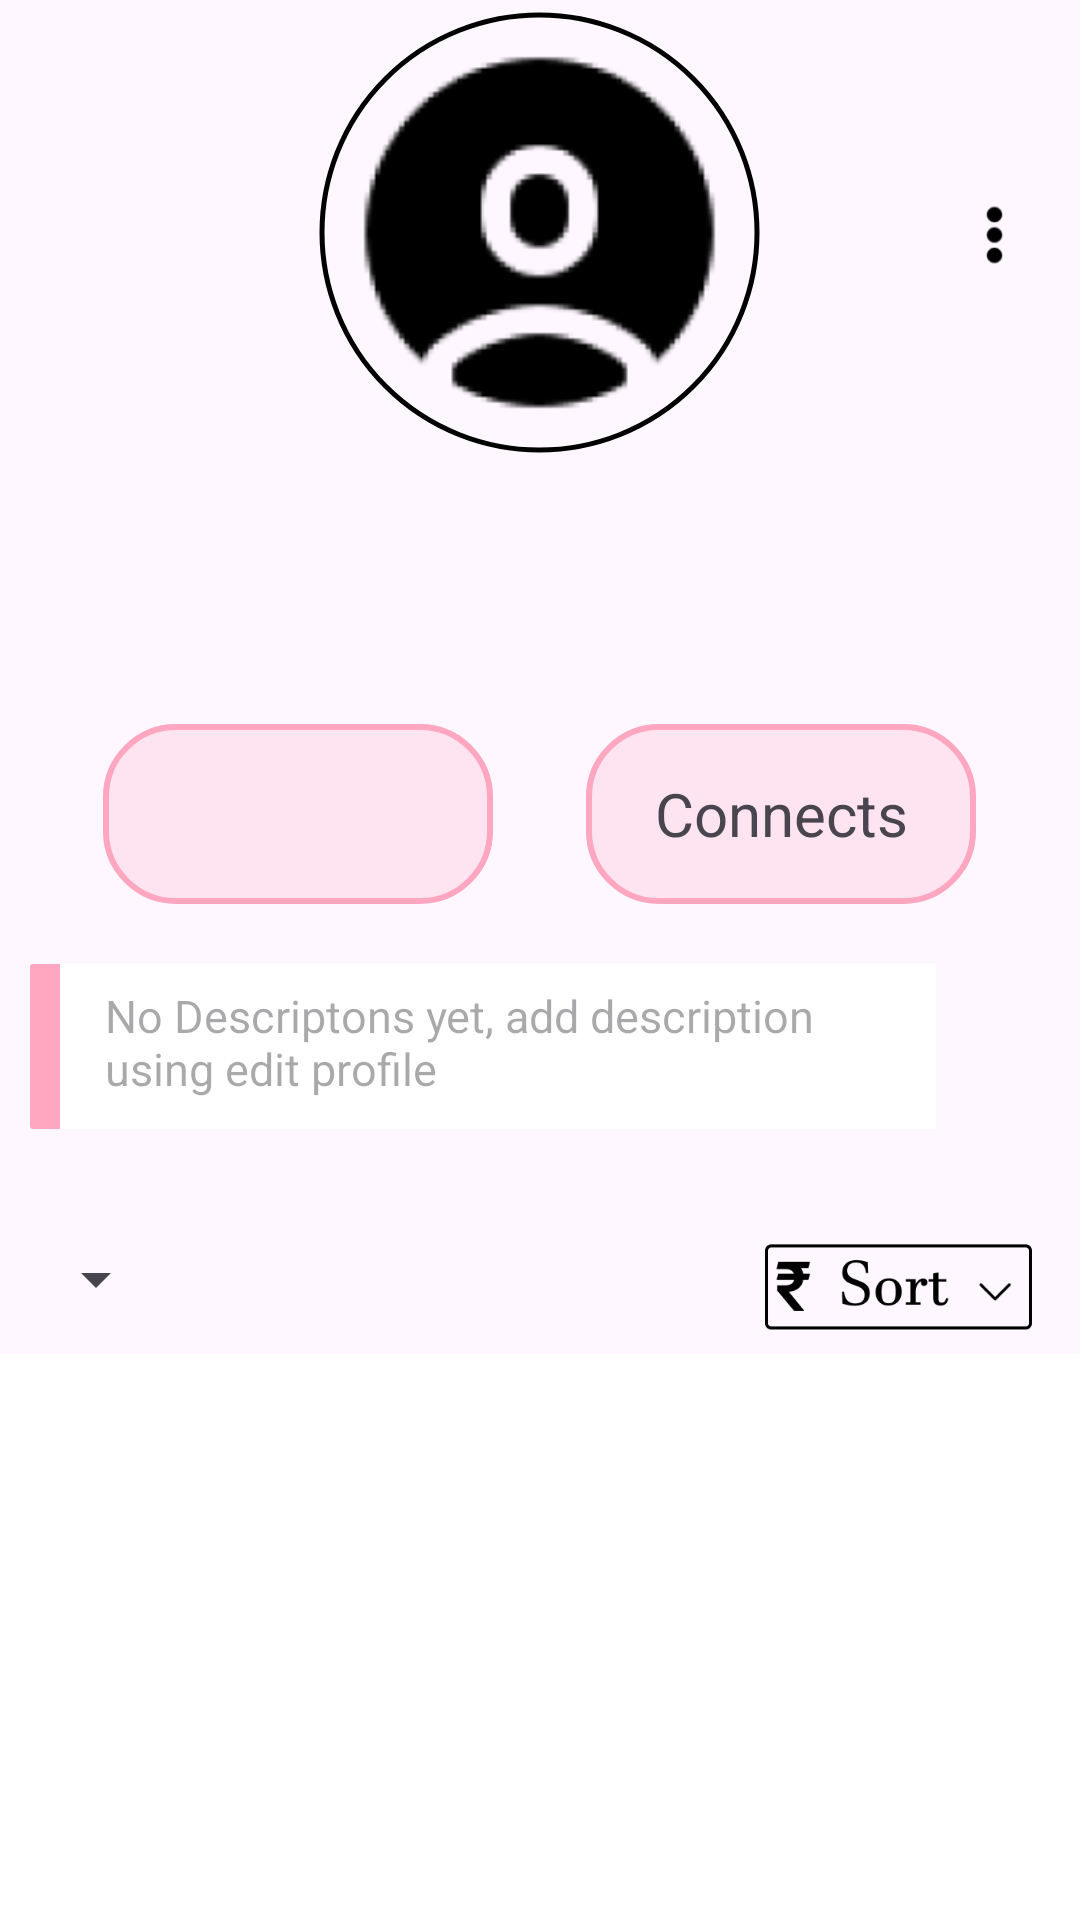

Named icons in this screenshot (1080×1920) and their centers, (x=x, y=y):
verticalmenu: (x=994, y=235)
